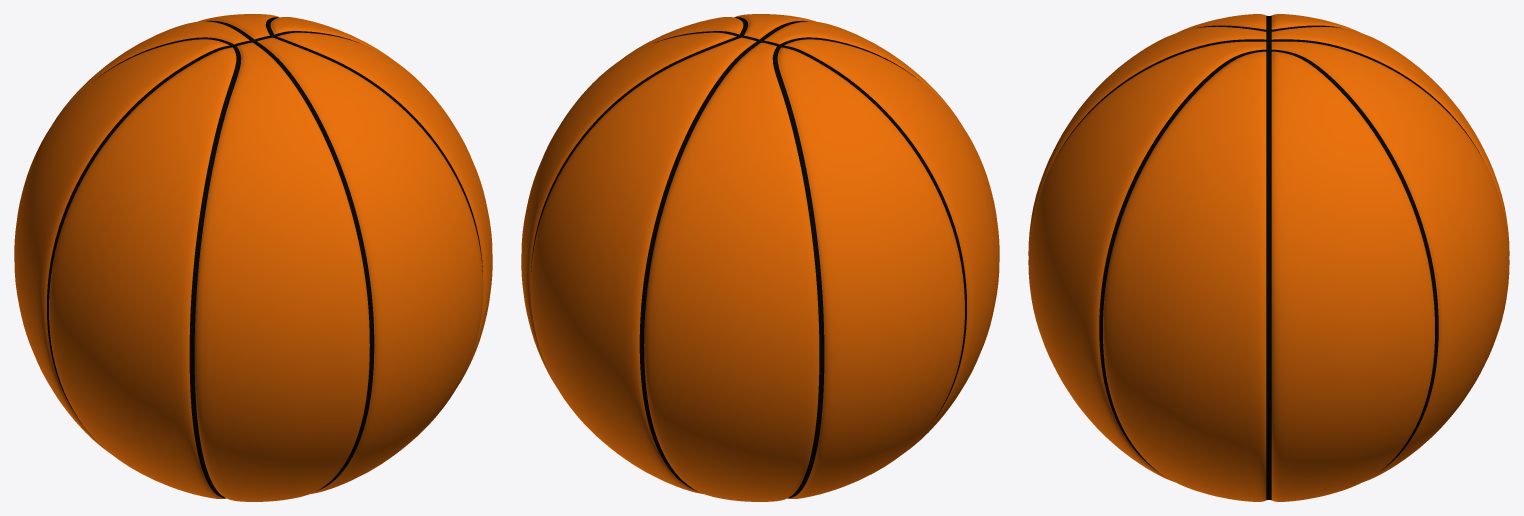
The model's file is ball.fbx.
3 renders of one model, left to right at view 1: azimuth 30°, elevation 25°; view 2: azimuth 150°, elevation 25°; view 3: azimuth 270°, elevation 25°, orthographic.
Visible parts, largest first — view 1: Sphere; view 2: Sphere; view 3: Sphere.
Part boxes in pixels (box(x1,y1,x2,y2)): Sphere: box(14, 14, 492, 501); Sphere: box(521, 14, 999, 501); Sphere: box(1028, 14, 1509, 501).
Size of the model in its own units: 195 by 196 by 195.
